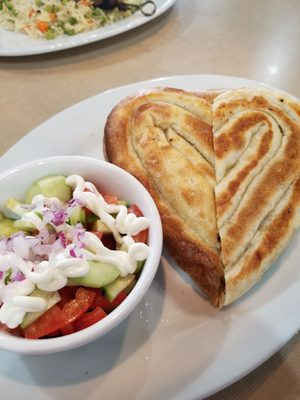soup: (99, 88, 300, 311)
sushi: (0, 154, 164, 362)
